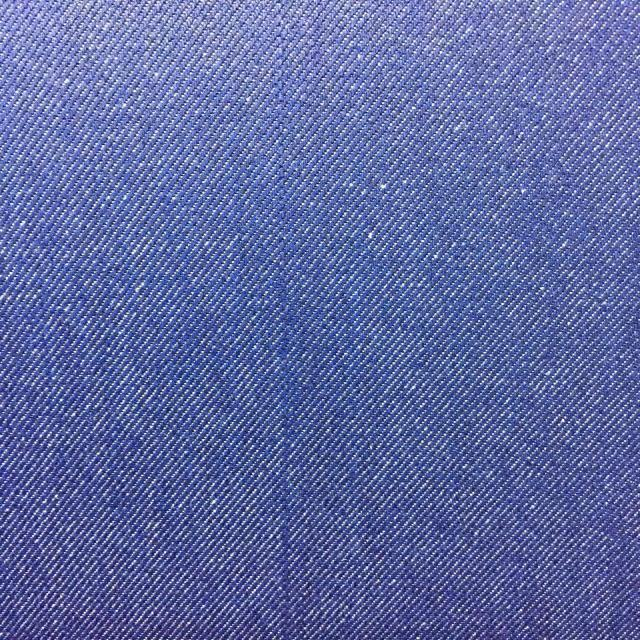Line: (272, 0, 295, 640)
